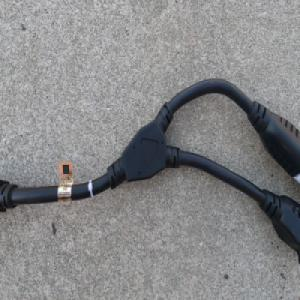Wire: (0, 77, 300, 261)
